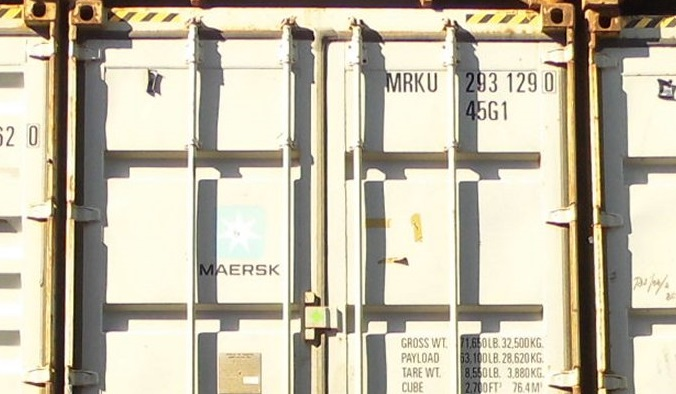container_door: (68, 1, 567, 394)
